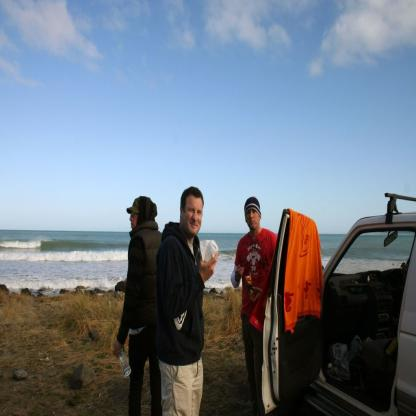Car: (256, 192, 416, 416)
